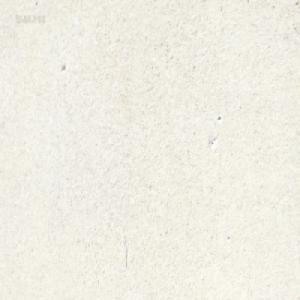Wrench: (127, 0, 133, 4)
